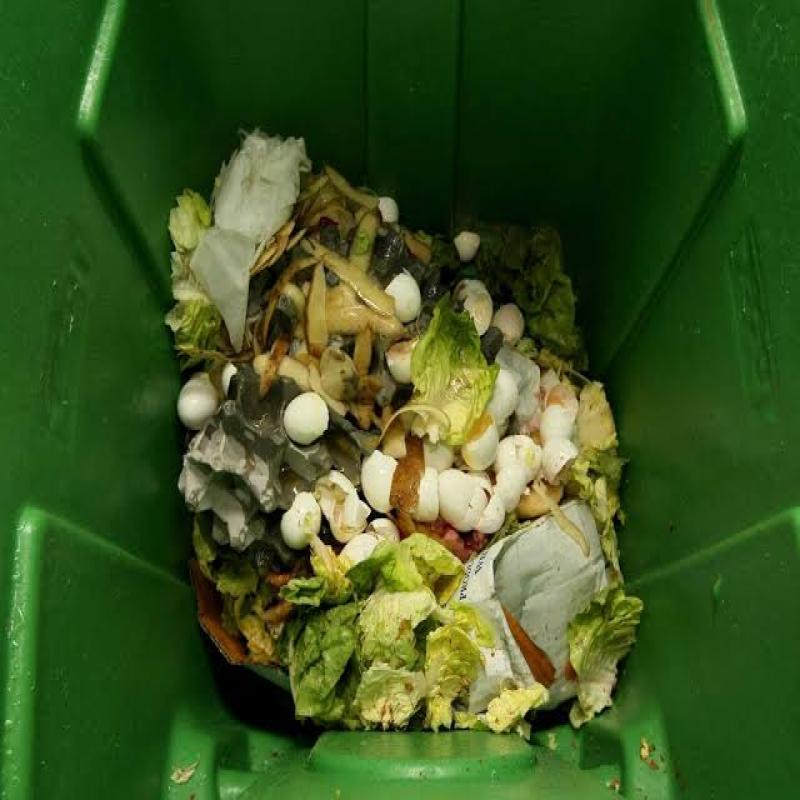egg shell: (280, 470, 370, 552), (416, 468, 478, 533), (476, 473, 528, 535), (282, 392, 330, 447), (178, 373, 220, 432), (361, 450, 399, 515), (540, 383, 579, 445), (454, 278, 494, 337), (495, 435, 541, 482), (385, 270, 422, 323), (461, 422, 499, 472), (486, 370, 519, 427), (542, 438, 579, 488), (492, 303, 526, 350), (449, 228, 481, 263), (470, 473, 492, 523), (378, 197, 401, 228)
vegetable peels: (399, 297, 499, 452), (164, 190, 235, 378), (512, 228, 588, 380), (558, 443, 632, 593), (189, 523, 279, 645), (568, 588, 644, 732), (286, 602, 366, 725), (302, 267, 398, 362), (346, 533, 466, 608), (456, 683, 574, 742), (360, 592, 444, 673), (254, 347, 360, 408), (425, 628, 485, 732), (314, 248, 394, 317), (355, 667, 431, 733), (282, 570, 356, 627)
